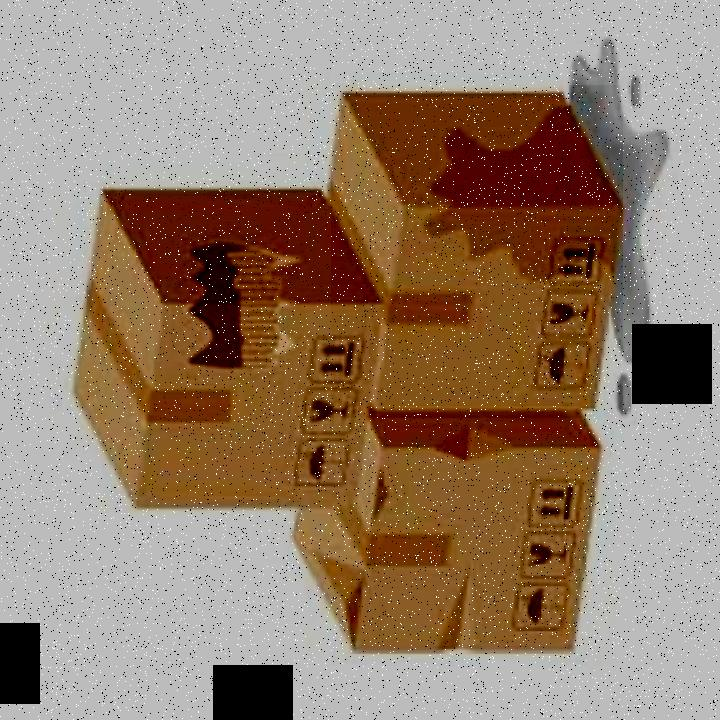box: (64, 181, 380, 514), (331, 85, 623, 426), (294, 418, 599, 662)
